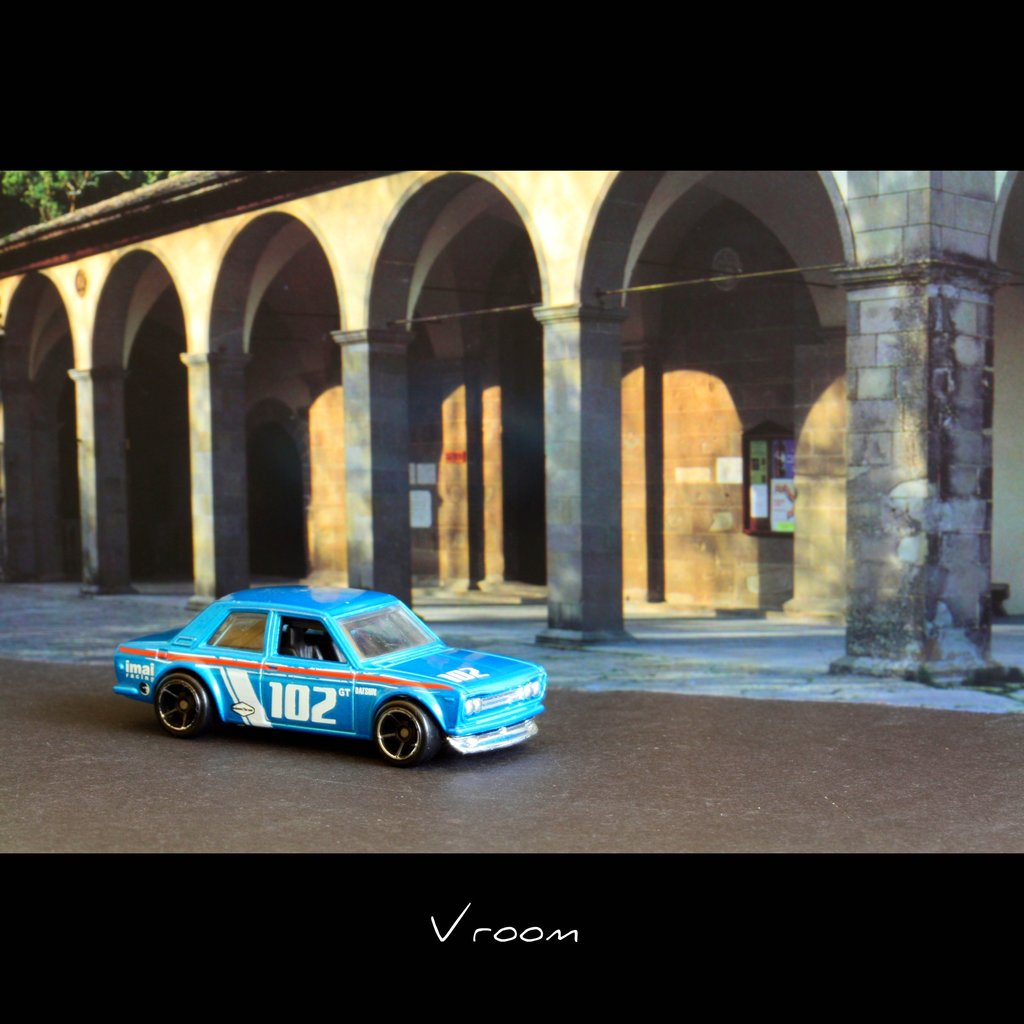Car: (108, 584, 547, 766)
